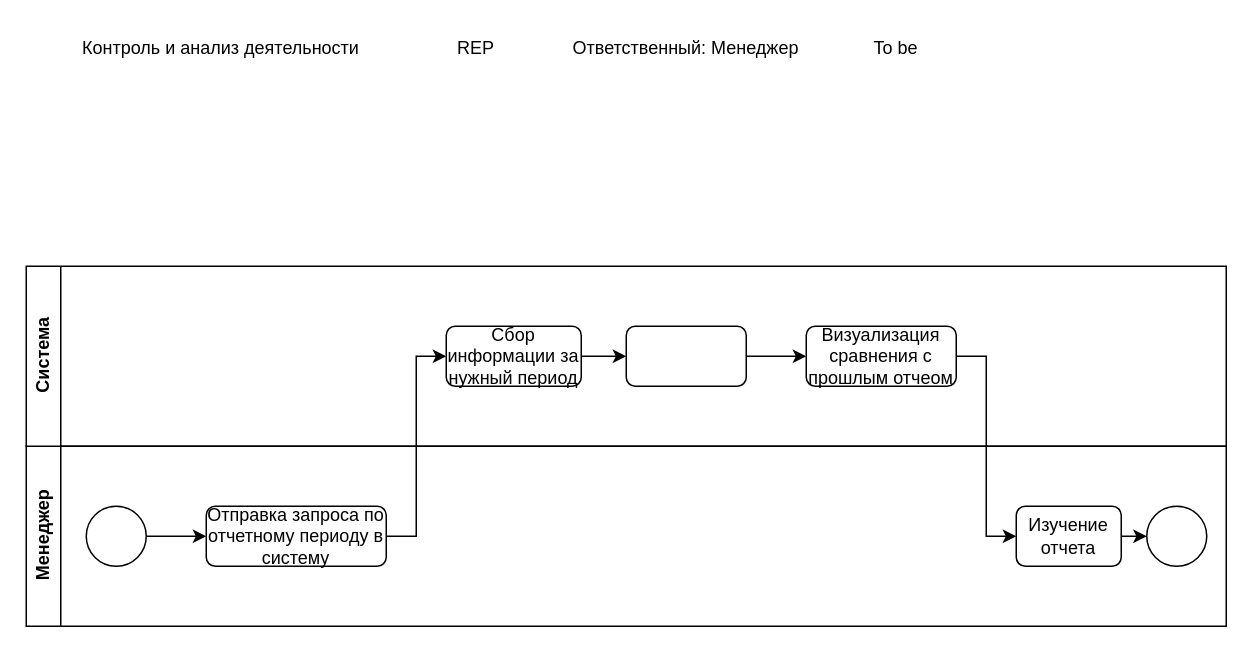
Image size: 1253x653. Some labels were removed from this diagram. The shapes that lost their labels are listed below. From the top down, each one's centre as x and y in pixels, then its label:
At point (685, 355): "Вычисление средних данных".
At point (115, 535): "Нужен отчет".
At point (1176, 535): "Конец".
